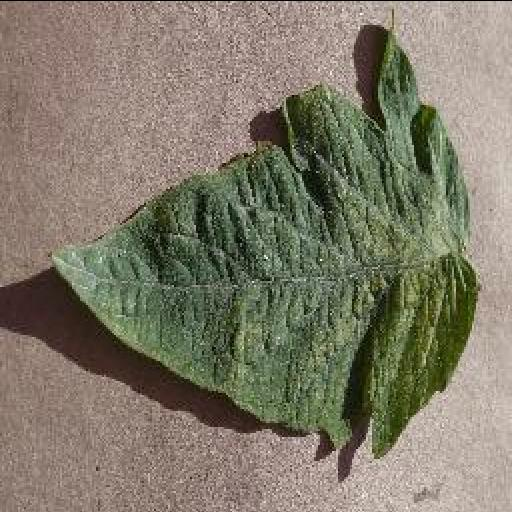disease_tomato: (46, 37, 476, 459)
